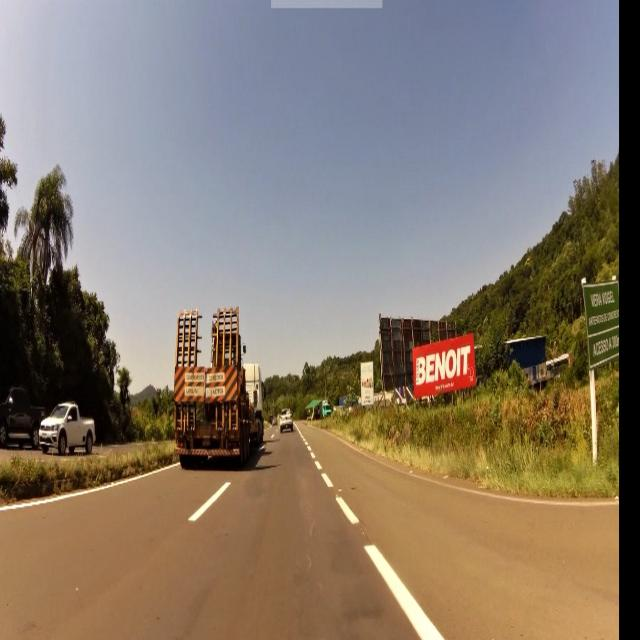I-4: (589, 282, 623, 368)
